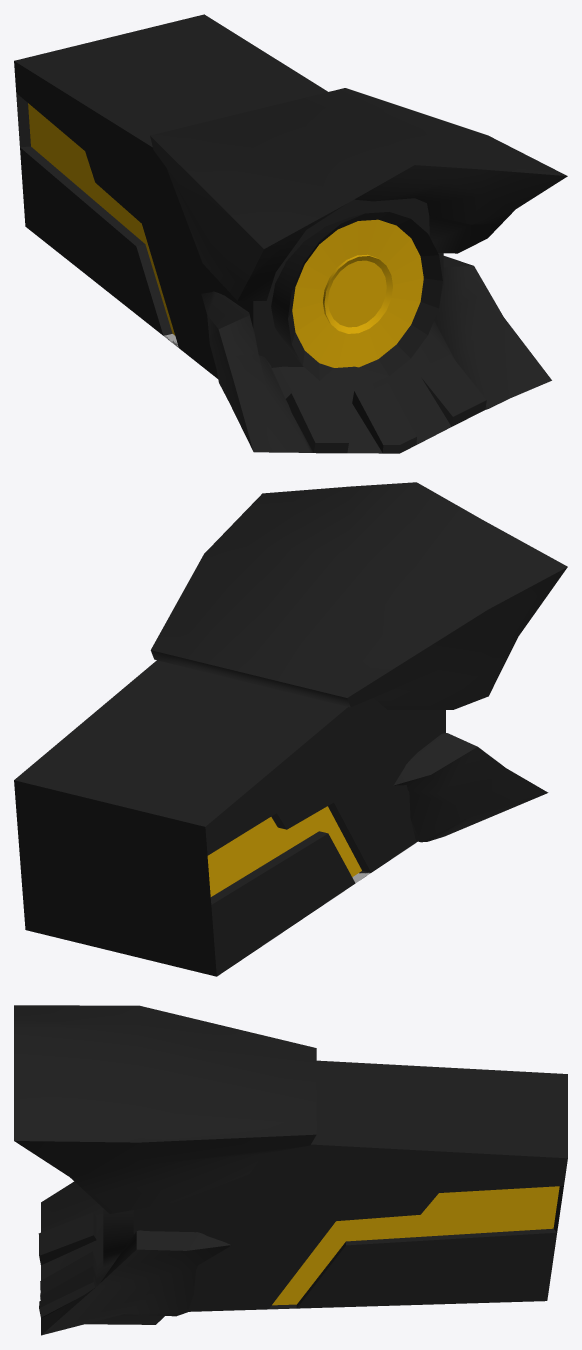
File: CameraHeadFix.fbx
3 renders of one model, top to bottom at view 1: azimuth 30°, elevation 25°; view 2: azimuth 150°, elevation 25°; view 3: azimuth 270°, elevation 25°, orthographic. The views are drawn at different scales.
Visible parts, largest first — view 1: pCube4; view 2: pCube4; view 3: pCube4.
Boxes of the visible parts, x1,y1,x2,y2 form: pCube4: (14, 14, 567, 453); pCube4: (14, 482, 567, 976); pCube4: (14, 1005, 567, 1335).
Size of the model in its own units: 3.22 by 3.03 by 5.61.
